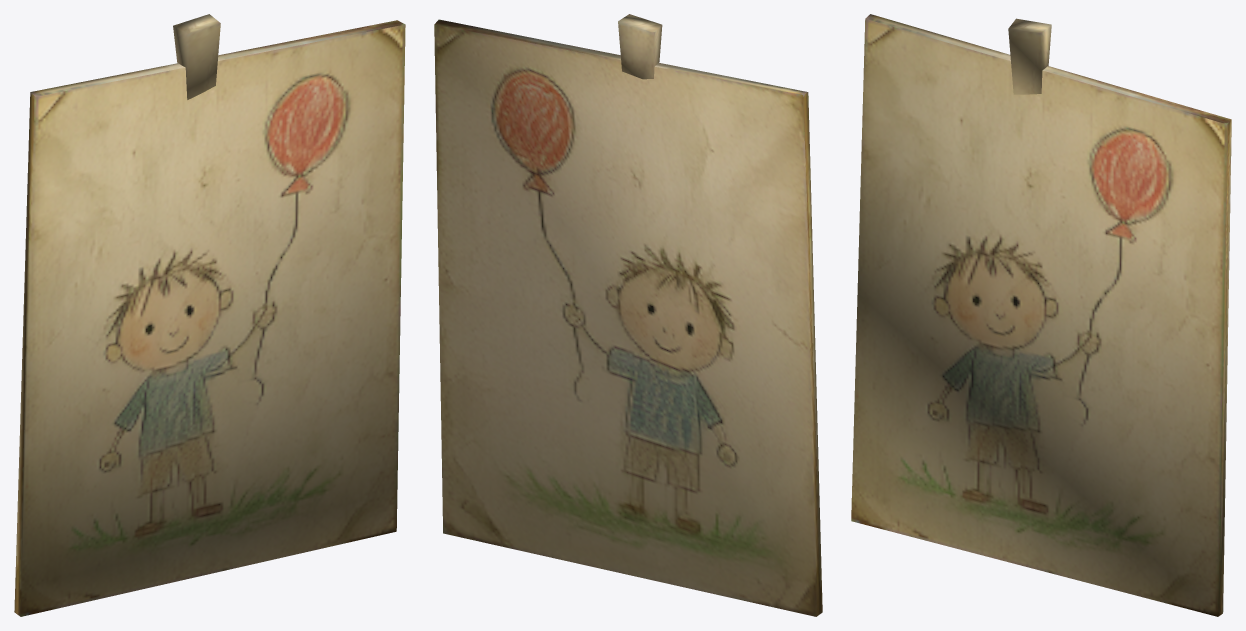
Rendered from picture7.fbx.
The picture shows the model from 3 angles, left to right: view 1: azimuth 30°, elevation 25°; view 2: azimuth 150°, elevation 25°; view 3: azimuth 330°, elevation 25°; orthographic projection. The views are drawn at different scales.
Visible parts, largest first — view 1: picture7; view 2: picture7; view 3: picture7.
Part boxes in pixels (x1,y1,x2,y2): picture7: (14, 14, 405, 616); picture7: (434, 14, 822, 616); picture7: (851, 14, 1231, 616).
Bounding box in the file's own units: 161 × 223 × 8.49.
1 material, 1 textured.
